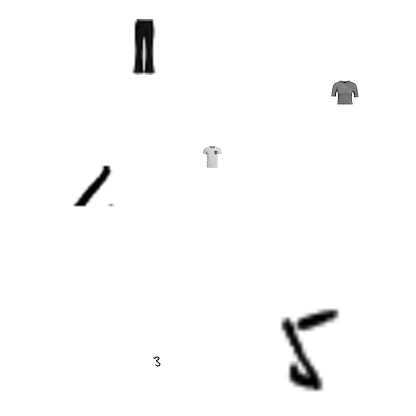0: (35, 19, 147, 131)
1: (105, 222, 147, 264)
8: (136, 158, 164, 186)
9: (171, 368, 213, 410)
Ankle_boot: (232, 13, 254, 35)
Sandal: (221, 72, 263, 114)
Shirt: (50, 178, 78, 206), (134, 374, 156, 396)
